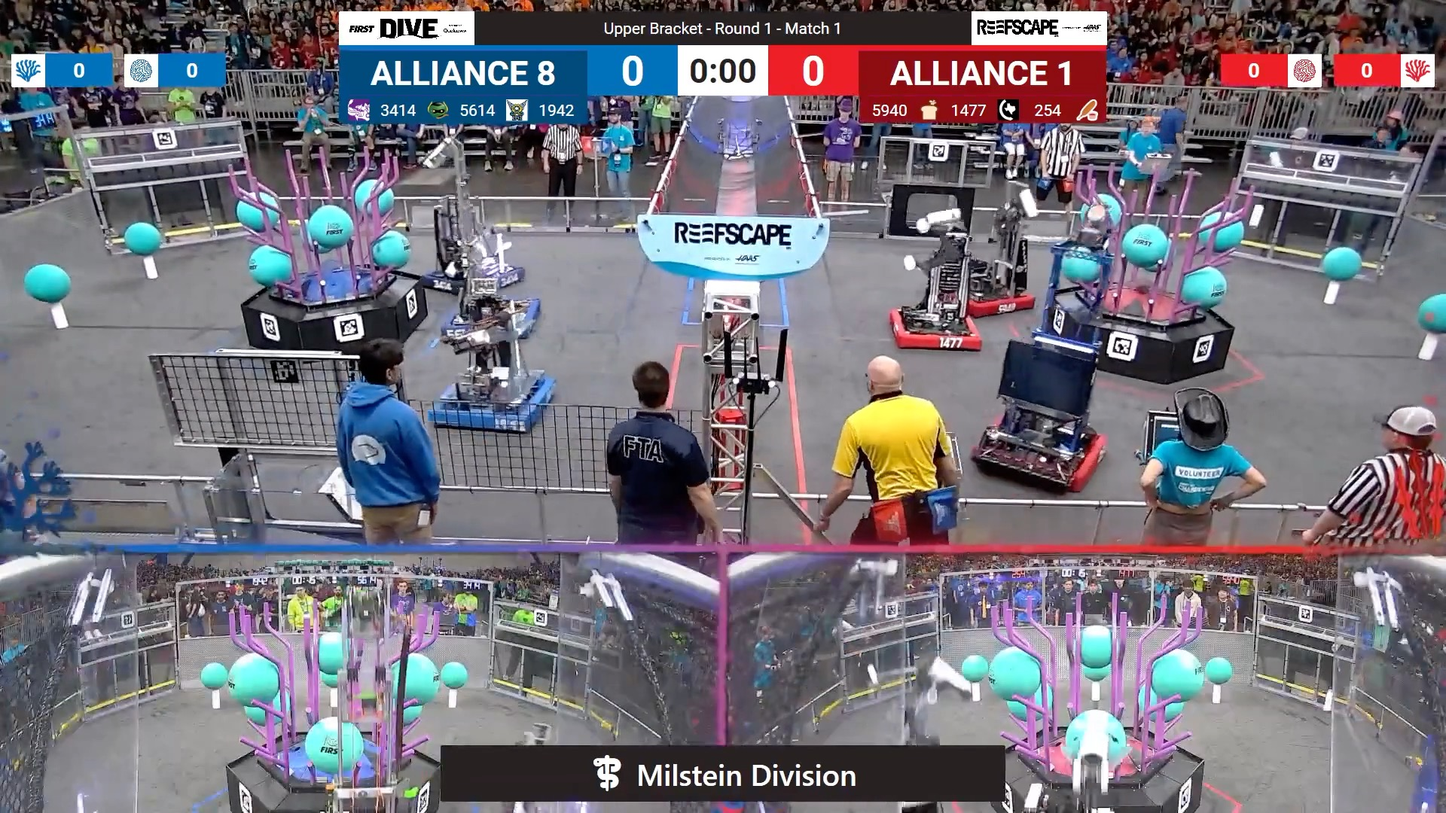bumpers: (977, 413, 1104, 488), (427, 373, 562, 434), (888, 309, 990, 357), (448, 299, 544, 341), (418, 261, 529, 292), (939, 294, 1039, 319)
